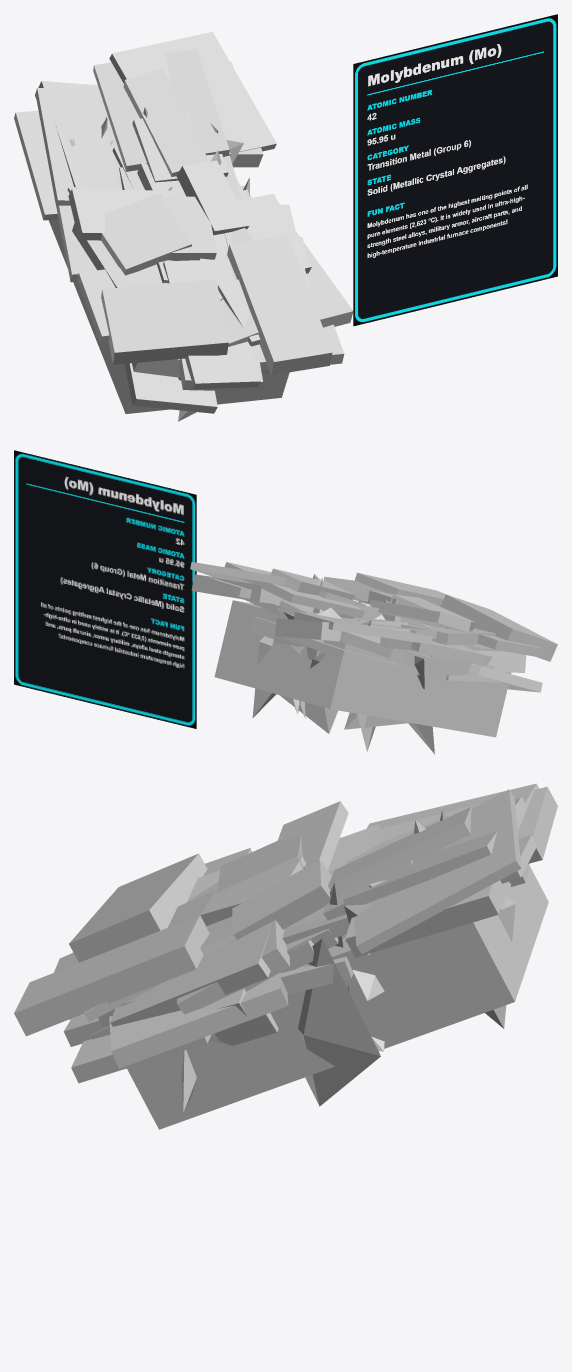
File: molybdenum.glb
3 views of the same model, one above another, from view 1: azimuth 30°, elevation 25°; view 2: azimuth 150°, elevation 25°; view 3: azimuth 270°, elevation 25° (orthographic). The views are drawn at different scales.
Visible parts, largest first — view 1: Mesh_137, Mesh_30, Mesh_18, Mesh_19, Mesh_13, Mesh_9, Mesh_41, Mesh_28, Mesh_55, Mesh_3, Mesh_0, Mesh_31 (+17 smaller); view 2: Mesh_137, Mesh_0, Mesh_30, Mesh_9, Mesh_19, Mesh_34, Mesh_58, Mesh_24, Mesh_18, Mesh_13, Mesh_32, Mesh_75 (+16 smaller); view 3: Mesh_0, Mesh_18, Mesh_13, Mesh_135, Mesh_30, Mesh_2, Mesh_53, Mesh_3, Mesh_28, Mesh_9, Mesh_32, Mesh_58 (+14 smaller).
Part boxes in pixels (box(x1,y1,x2,y2)): Mesh_137: box(353, 14, 557, 326); Mesh_30: box(101, 279, 228, 364); Mesh_18: box(227, 234, 332, 375); Mesh_19: box(35, 87, 118, 206); Mesh_13: box(109, 32, 276, 156); Mesh_9: box(93, 48, 229, 171); Mesh_41: box(101, 193, 191, 275); Mesh_28: box(123, 69, 209, 176); Mesh_55: box(163, 259, 260, 389); Mesh_3: box(176, 160, 249, 235); Mesh_0: box(48, 219, 289, 413); Mesh_31: box(124, 363, 217, 413); Mesh_137: box(14, 450, 196, 728); Mesh_0: box(214, 600, 511, 737); Mesh_30: box(440, 594, 557, 661); Mesh_9: box(224, 562, 364, 618); Mesh_19: box(294, 611, 432, 644); Mesh_34: box(275, 618, 411, 643); Mesh_58: box(369, 599, 470, 632); Mesh_24: box(286, 637, 416, 677); Mesh_18: box(354, 572, 445, 606); Mesh_13: box(190, 562, 299, 589); Mesh_32: box(191, 574, 324, 610); Mesh_75: box(411, 641, 485, 665); Mesh_0: box(127, 865, 548, 1129); Mesh_18: box(14, 915, 209, 1036); Mesh_13: box(353, 789, 521, 953); Mesh_135: box(298, 938, 380, 1106); Mesh_30: box(69, 853, 207, 962); Mesh_2: box(109, 972, 288, 1068); Mesh_53: box(110, 921, 272, 1026); Mesh_3: box(232, 860, 331, 939); Mesh_28: box(328, 807, 471, 897); Mesh_9: box(343, 796, 526, 905); Mesh_32: box(345, 880, 508, 957); Mesh_58: box(277, 801, 348, 869).
Bounding box in the file's own units: 2.78 × 1.37 × 1.95.
2 materials, 1 textured.
